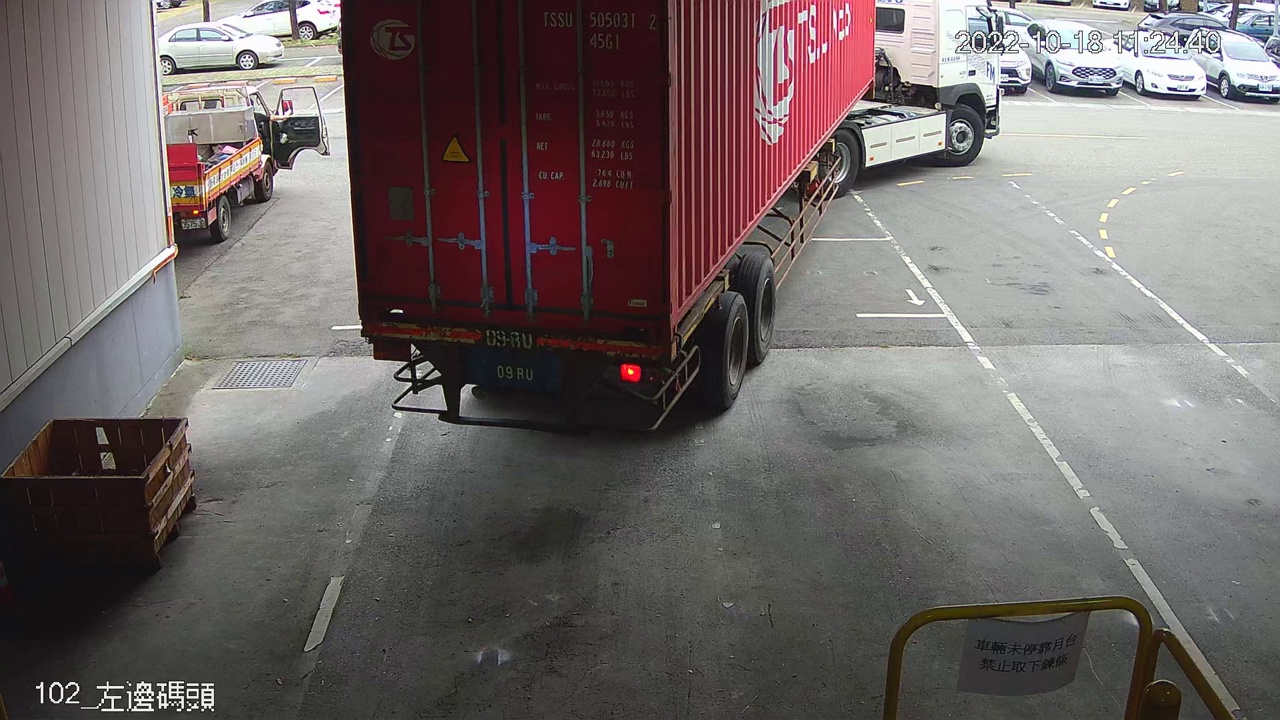container: (534, 4, 664, 53)
